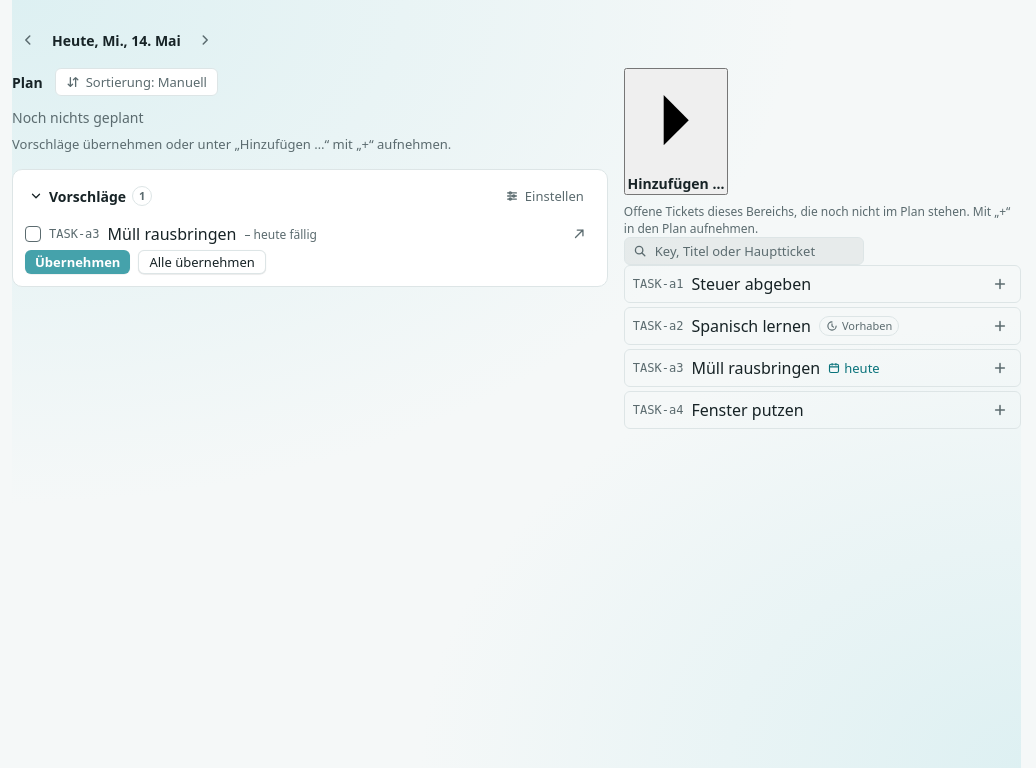
it: the head and an empty plan in the phone frame (MO-6b) › starts with the suggestions and "Hinzufügen …" open when the plan is empty; a first entry folds nothing
Expected: the heading "Noch nichts geplant" is shown, [12, 108, 144, 127]
Expected: the text "– heute fällig" is shown, [244, 226, 317, 242]
Click the button named "TASK-a4 zum Tagesplan" at (1000, 410), box [984, 394, 1016, 426]
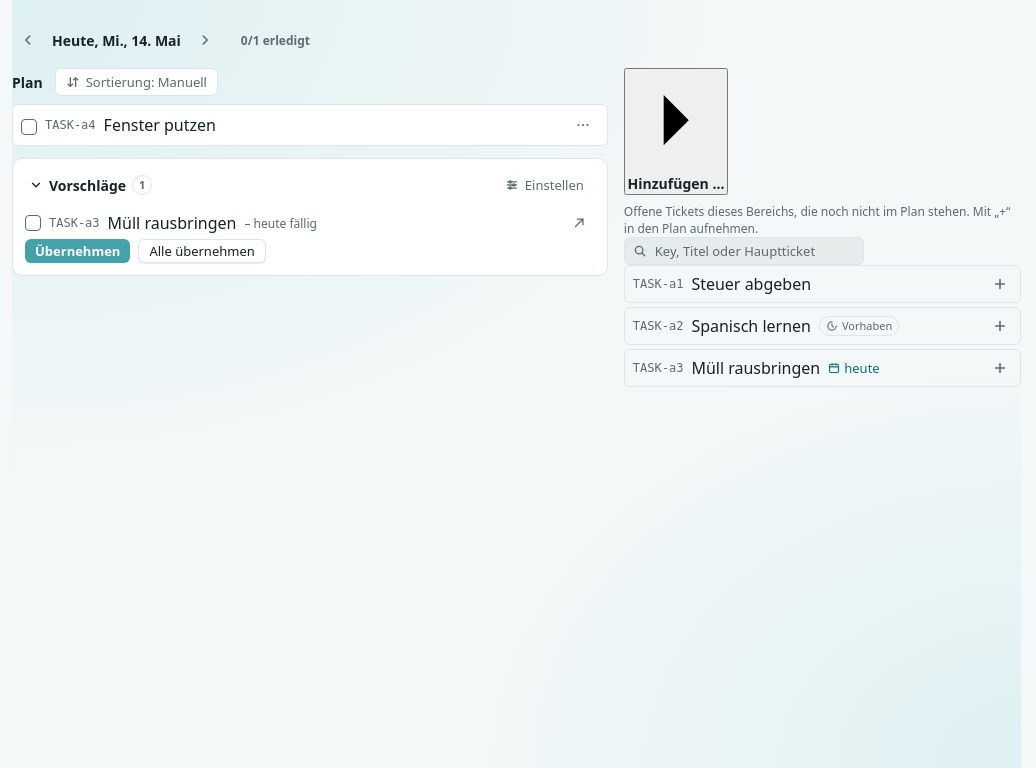
# Folding stays the choice of the user.
Click the button "Hinzufügen …" at (676, 132), box [624, 68, 728, 195]
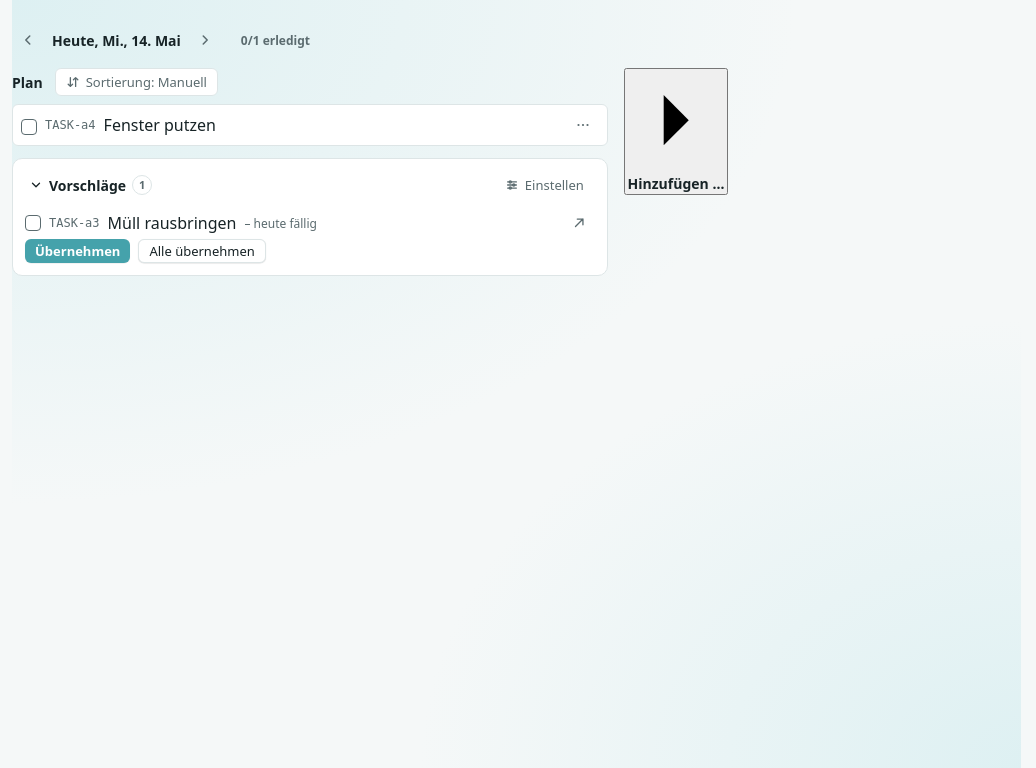
Click the button "Vorschläge 1" at (91, 185), box [25, 171, 156, 199]
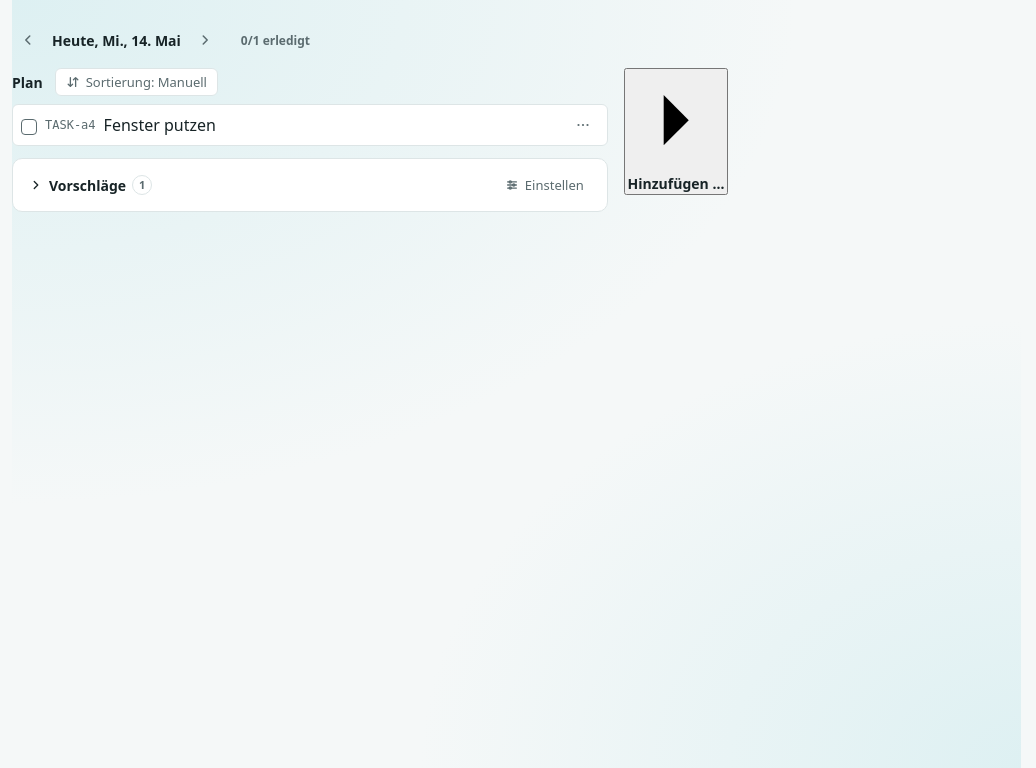
Expected: the button "Vorschläge 1" is collapsed, [25, 171, 156, 199]
